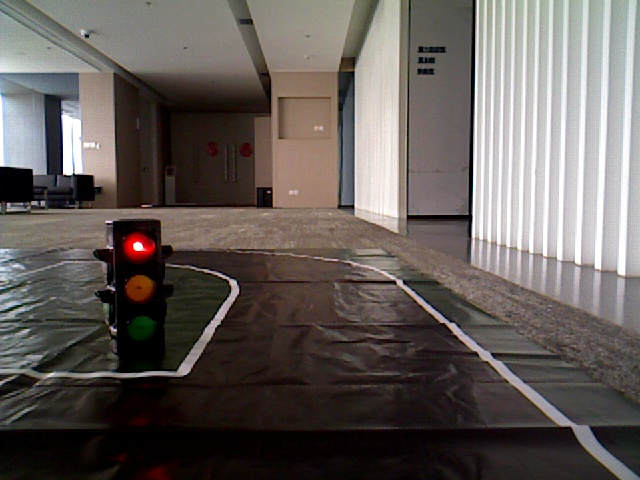red: (115, 222, 163, 336)
